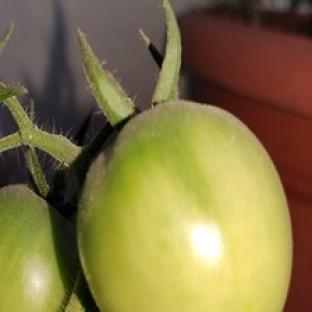Tomato: (78, 102, 292, 311), (0, 186, 76, 311)
